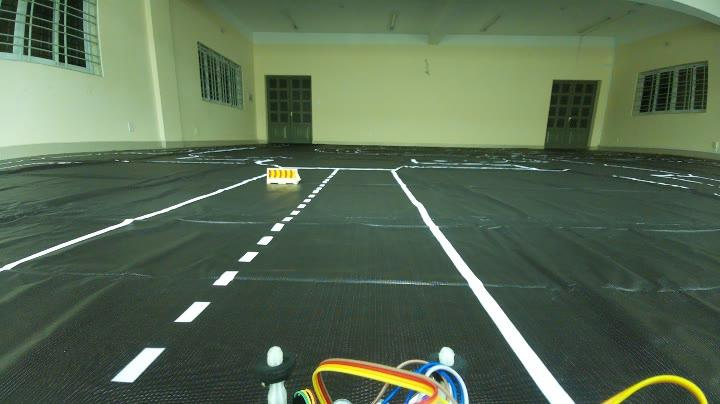roadblock: (260, 166, 310, 188)
